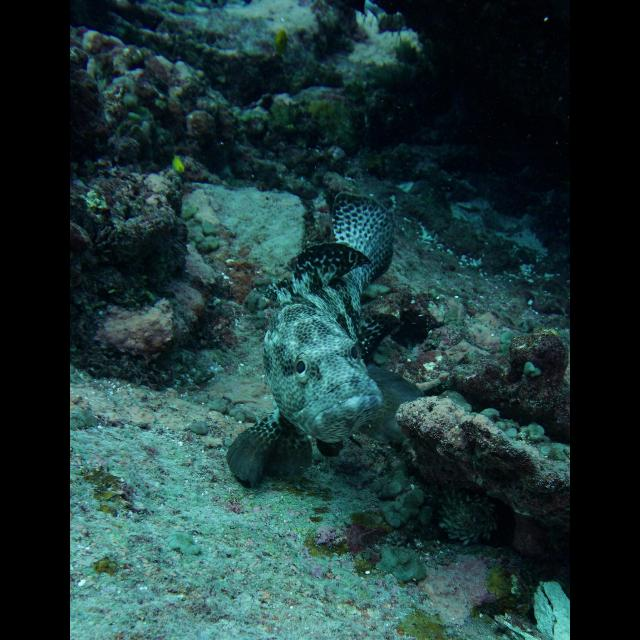Groupers: (227, 192, 428, 482)
